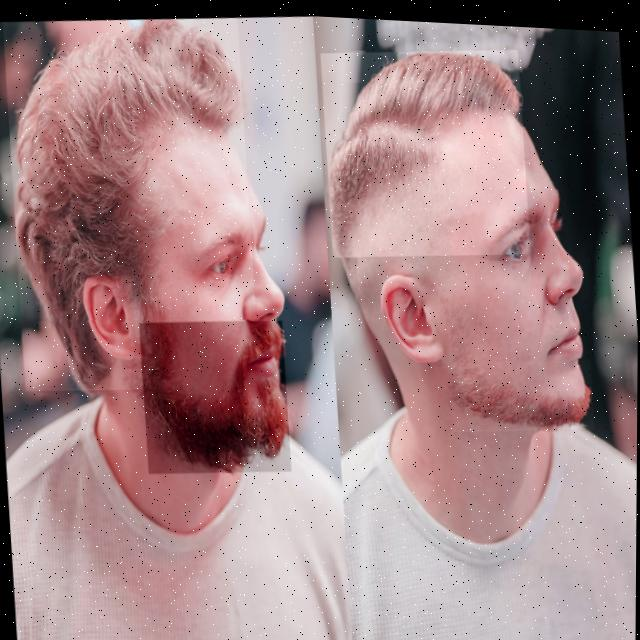beard: (144, 318, 288, 469), (451, 357, 593, 423)
hair: (16, 17, 243, 389), (330, 47, 520, 253)
